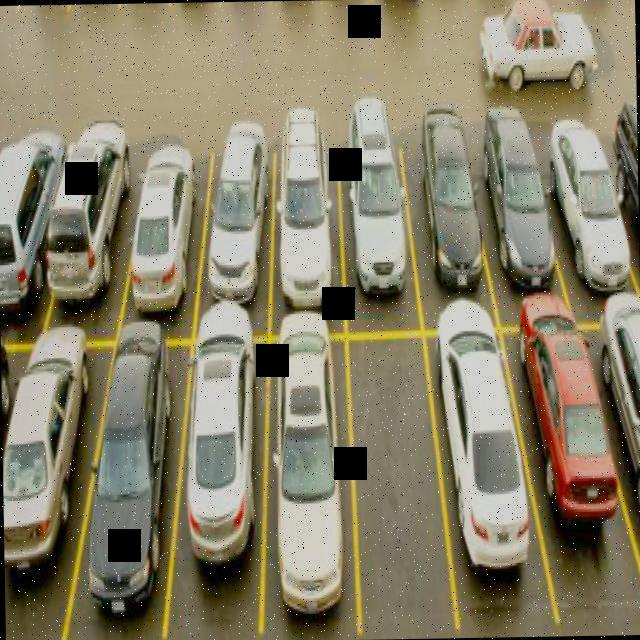car: (500, 301, 636, 603), (73, 329, 200, 640), (158, 331, 280, 637), (0, 328, 111, 628), (252, 337, 356, 607), (438, 310, 524, 598), (38, 118, 134, 324), (116, 119, 205, 322), (467, 109, 558, 294), (333, 106, 414, 310), (264, 112, 344, 317), (199, 120, 276, 324), (402, 108, 483, 300), (0, 93, 62, 335), (551, 114, 619, 298)
free: (346, 328, 439, 605)
